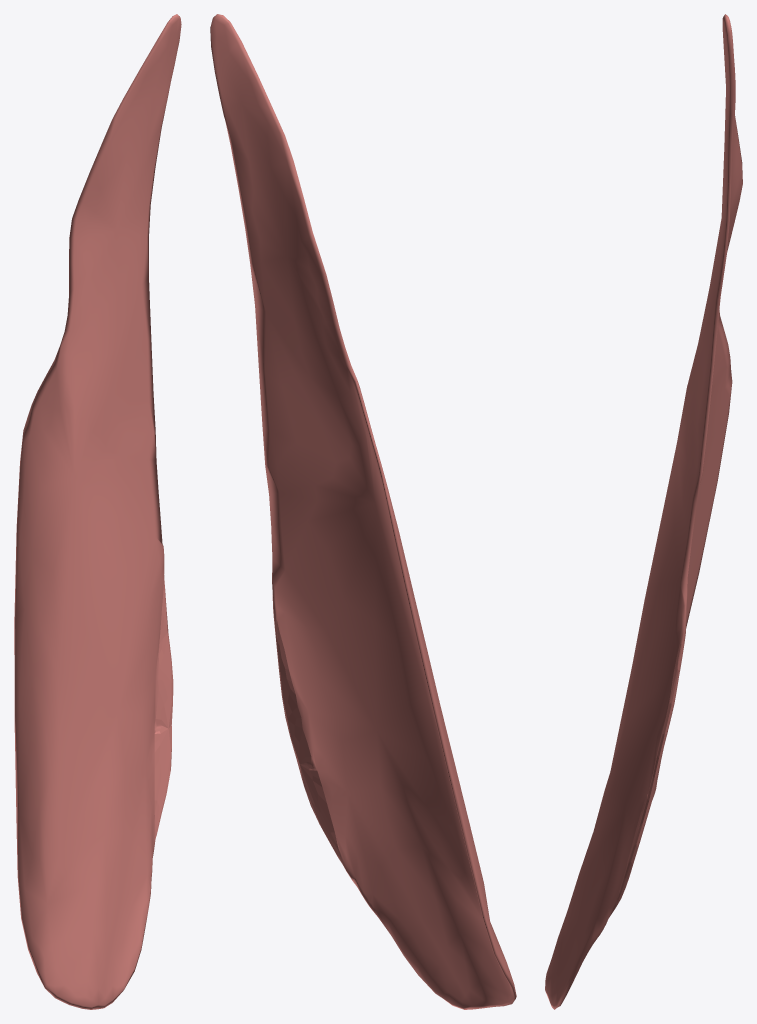
The picture shows the model from 3 angles, left to right: view 1: azimuth 30°, elevation 25°; view 2: azimuth 150°, elevation 25°; view 3: azimuth 270°, elevation 25°; orthographic projection. The views are drawn at different scales.
Parts seen in each view (by area): view 1: ZA_b3bd42be857d479c; view 2: ZA_b3bd42be857d479c; view 3: ZA_b3bd42be857d479c.
Part boxes in pixels (left/top/right/bottom): ZA_b3bd42be857d479c: left=14, top=14, right=181, bottom=1009; ZA_b3bd42be857d479c: left=210, top=14, right=516, bottom=1009; ZA_b3bd42be857d479c: left=545, top=14, right=742, bottom=1009.
Bounding box in the file's own units: 0.0243 × 0.1011 × 0.0168.
